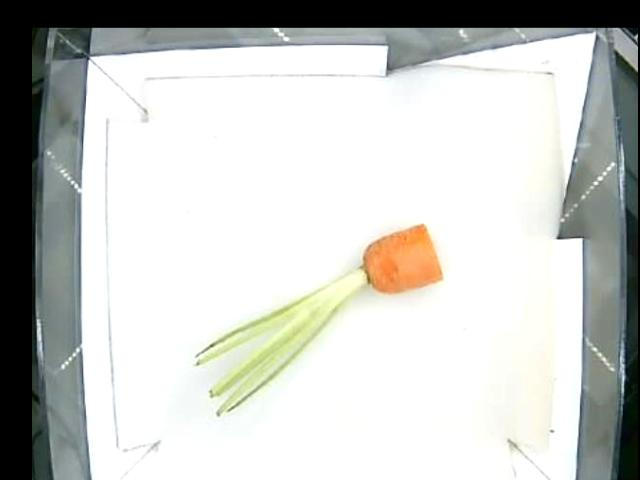Carrot: (314, 223, 441, 321)
